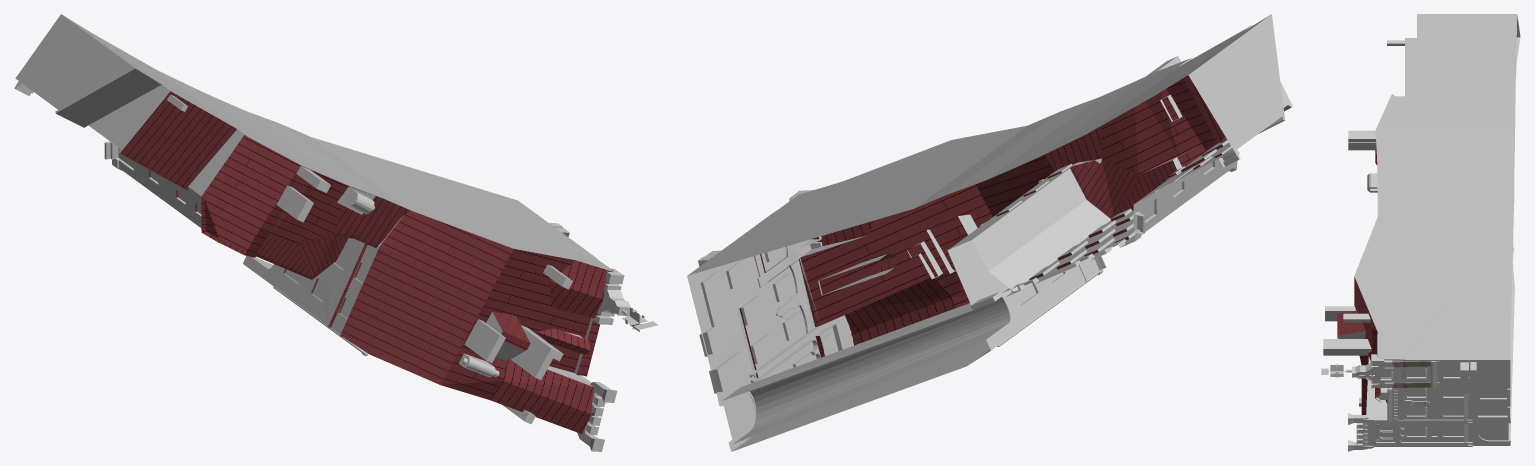
File: Pikk_37.obj
The picture shows the model from 3 angles, left to right: view 1: azimuth 30°, elevation 25°; view 2: azimuth 150°, elevation 25°; view 3: azimuth 270°, elevation 25°; orthographic projection. The views are drawn at different scales.
Visible parts, largest first — view 1: Pikk_37; view 2: Pikk_37; view 3: Pikk_37.
Part boxes in pixels (x1,y1,x2,y2): Pikk_37: (14,14,658,451); Pikk_37: (687,14,1292,451); Pikk_37: (1321,14,1520,451).
Size of the model in its own units: 44.33 by 36.94 by 22.1.
